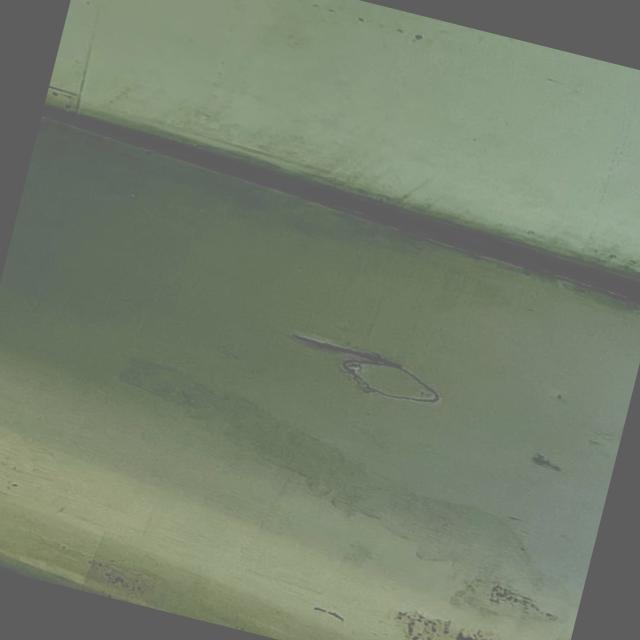crack: (298, 330, 404, 373)
